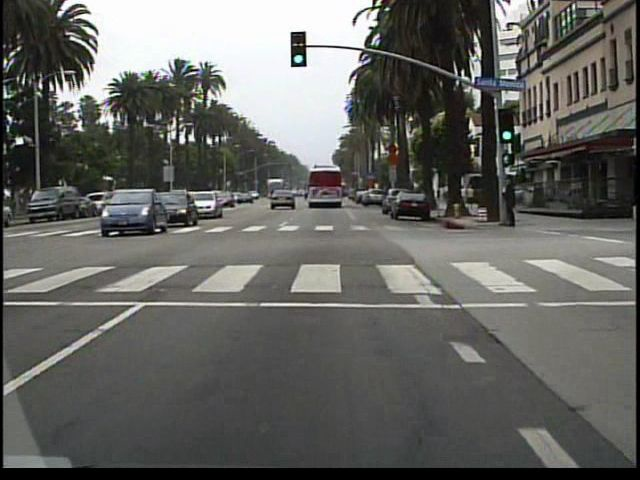person: (501, 174, 520, 230)
